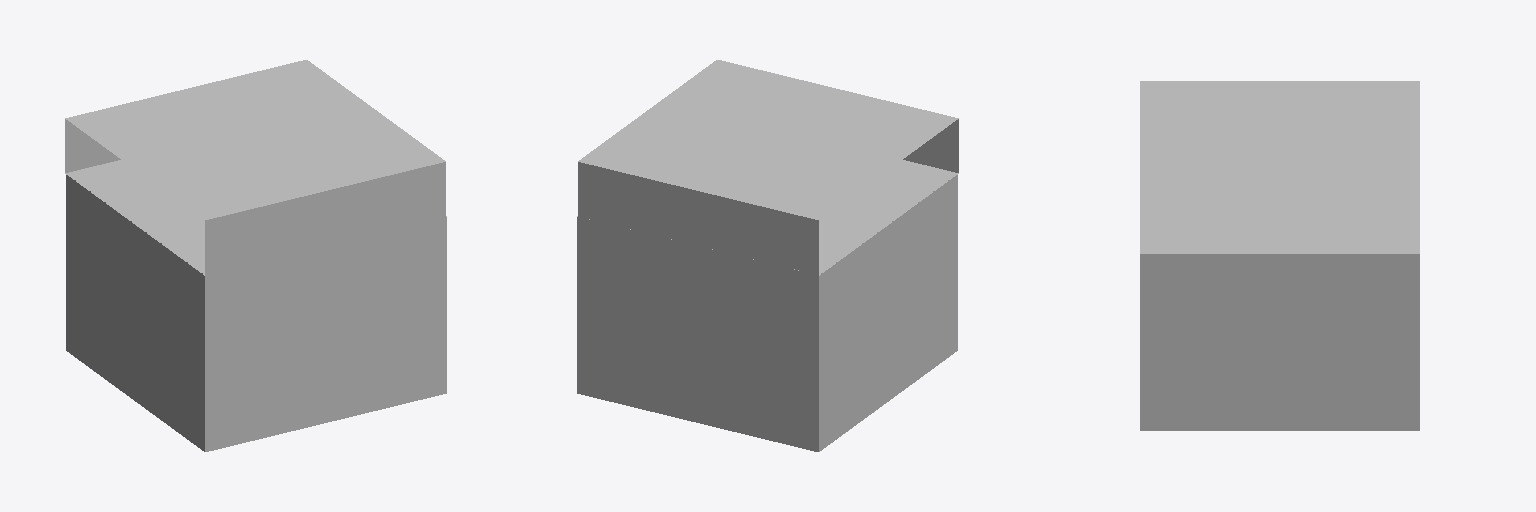
The model's file is water_two_b.7b4c02ee.obj.
The picture shows the model from 3 angles: view 1: azimuth 30°, elevation 25°; view 2: azimuth 150°, elevation 25°; view 3: azimuth 270°, elevation 25°; orthographic projection.
Parts seen in each view (by area): view 1: Water_two_b_Cube.013; view 2: Water_two_b_Cube.013; view 3: Water_two_b_Cube.013.
Part boxes in pixels (x1,y1,x2,y2): Water_two_b_Cube.013: (65,60,446,451); Water_two_b_Cube.013: (577,60,958,451); Water_two_b_Cube.013: (1140,81,1419,430).
Size of the model in its own units: 2 by 1.83 by 2.